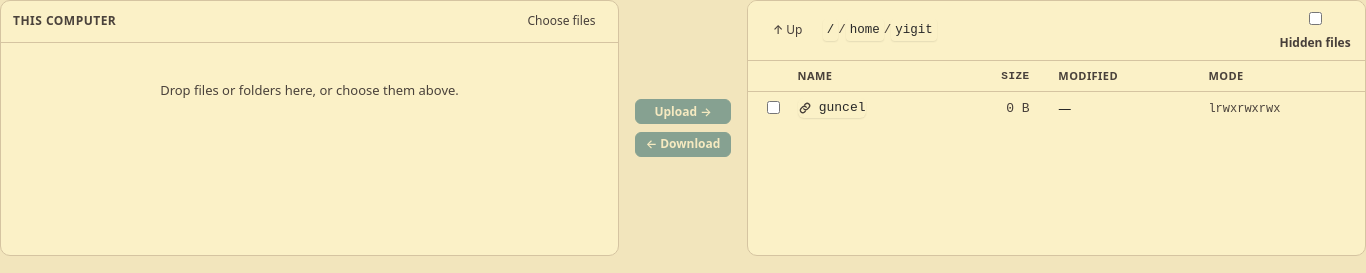
Test case: sembolik bağlar › bağ tıklanabilir ve girildiğinde yol değişiyor
This screenshot has width=1366, height=273.
Click the button "guncel" at x=832, y=108, box [798,98,866,118]
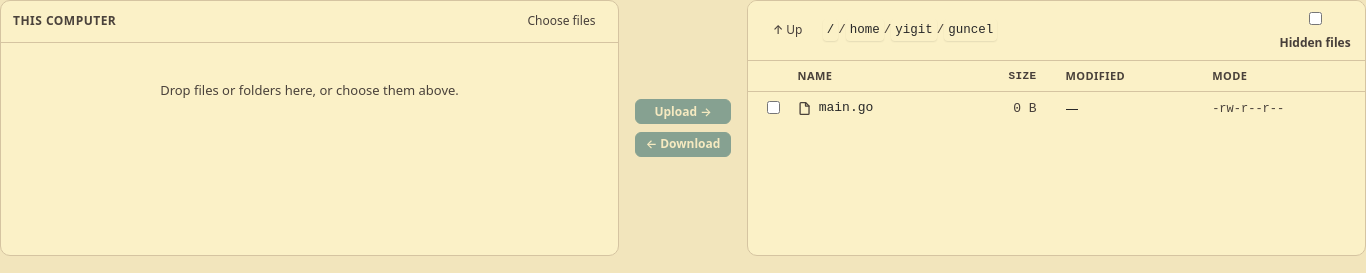
Expected: the button "guncel" is shown, [944,19,997,41]
Now the text "main.go" is shown, box [798,98,873,118]
